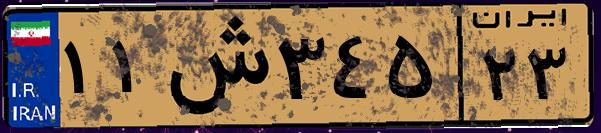1: (57, 26, 110, 100), (110, 28, 158, 98)
2: (475, 38, 525, 113)
3: (270, 28, 330, 110), (525, 38, 570, 115)
4: (330, 28, 385, 110)
5: (385, 28, 445, 110)
ش: (158, 12, 270, 120)
